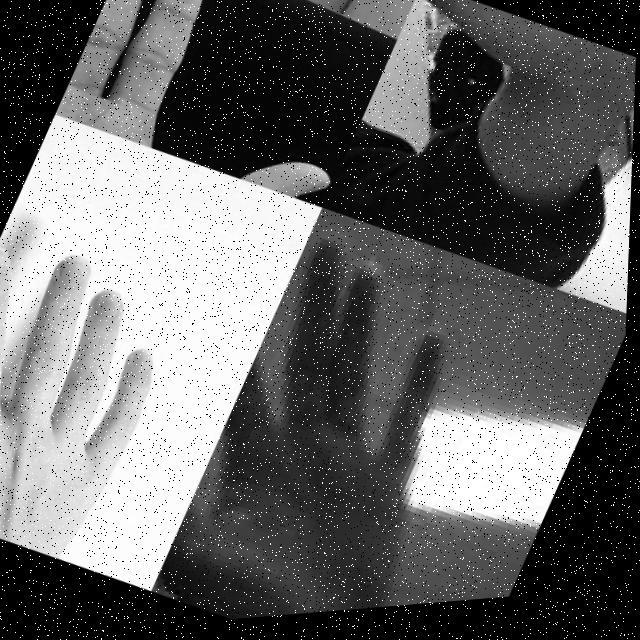no-gloves: (153, 214, 534, 629), (338, 0, 640, 280), (51, 0, 401, 226), (0, 208, 207, 574)
